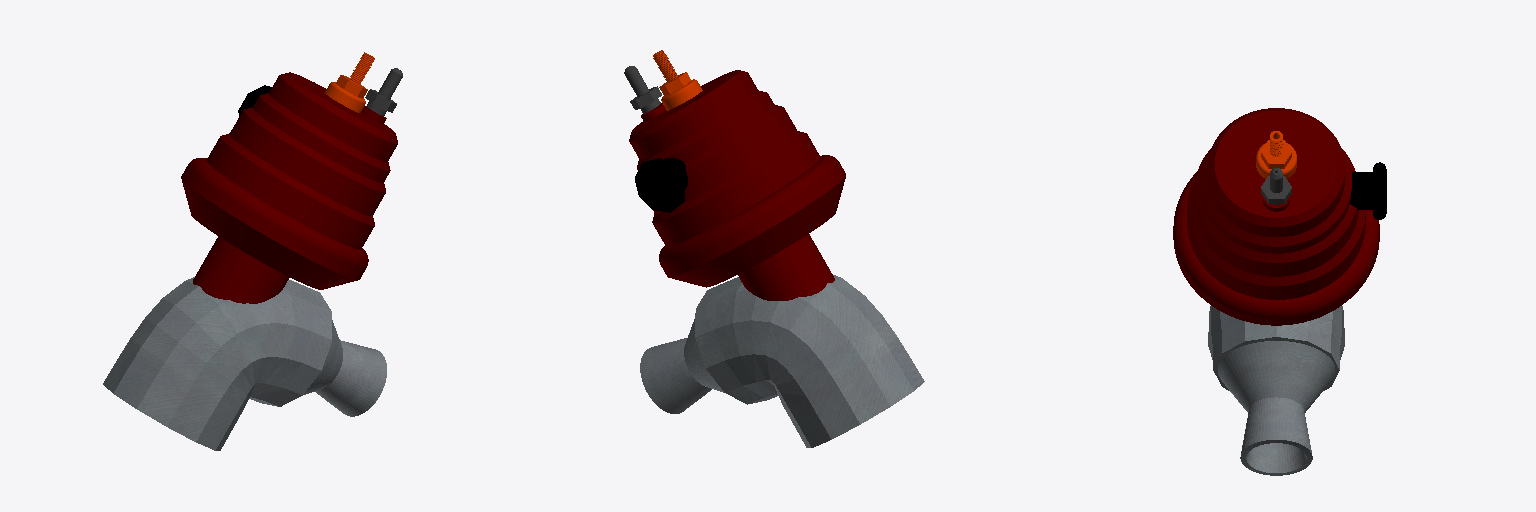
3 renders of one model, left to right at view 1: azimuth 30°, elevation 25°; view 2: azimuth 150°, elevation 25°; view 3: azimuth 270°, elevation 25°, orthographic.
Parts seen in each view (by area): view 1: Valve_Blowoff_Valve.001, Blowoff_Valve_Tube_BezierCurve.011, Outlet_Cylinder.005, Port2_Blowoff_Valve_Port2, Port1_Blowoff_Valve_Port1; view 2: Valve_Blowoff_Valve.001, Blowoff_Valve_Tube_BezierCurve.011, Outlet_Cylinder.005, Adjuster_Blowoff_Valve_Adjuster, Port2_Blowoff_Valve_Port2, Port1_Blowoff_Valve_Port1; view 3: Valve_Blowoff_Valve.001, Outlet_Cylinder.005, Blowoff_Valve_Tube_BezierCurve.011, Adjuster_Blowoff_Valve_Adjuster, Port2_Blowoff_Valve_Port2, Port1_Blowoff_Valve_Port1.
Boxes of the visible parts, box(x1,y1,x2,y2) form: Valve_Blowoff_Valve.001: box(181, 72, 397, 303); Blowoff_Valve_Tube_BezierCurve.011: box(103, 277, 331, 450); Outlet_Cylinder.005: box(303, 320, 386, 416); Port2_Blowoff_Valve_Port2: box(325, 52, 374, 112); Port1_Blowoff_Valve_Port1: box(365, 68, 402, 115); Valve_Blowoff_Valve.001: box(629, 70, 845, 300); Blowoff_Valve_Tube_BezierCurve.011: box(695, 275, 924, 447); Outlet_Cylinder.005: box(640, 319, 723, 413); Adjuster_Blowoff_Valve_Adjuster: box(635, 158, 687, 212); Port2_Blowoff_Valve_Port2: box(653, 50, 702, 110); Port1_Blowoff_Valve_Port1: box(624, 66, 661, 113); Valve_Blowoff_Valve.001: box(1173, 108, 1379, 325); Outlet_Cylinder.005: box(1218, 341, 1334, 475); Blowoff_Valve_Tube_BezierCurve.011: box(1208, 306, 1344, 390); Adjuster_Blowoff_Valve_Adjuster: box(1350, 162, 1386, 219); Port2_Blowoff_Valve_Port2: box(1256, 131, 1296, 178); Port1_Blowoff_Valve_Port1: box(1261, 168, 1291, 204).
Size of the model in its own units: 0.068 by 0.0799 by 0.0434.
5 materials, 1 textured.